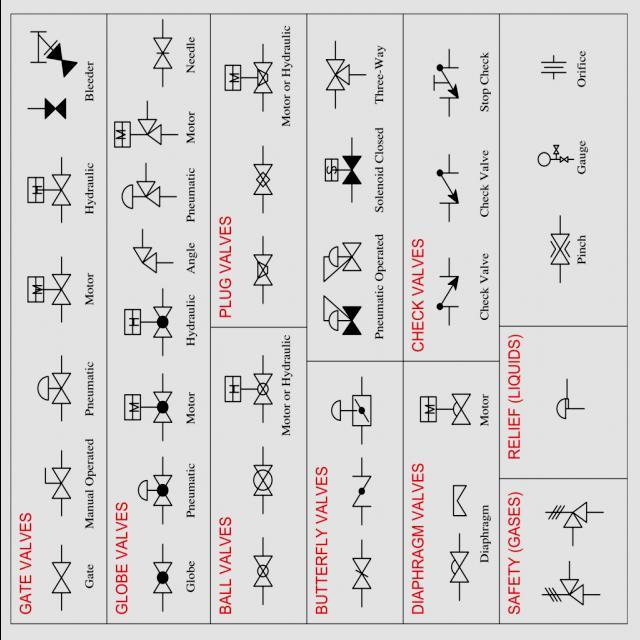3 Way Gate Valve: (311, 52, 358, 104)
Angle Valve: (126, 236, 166, 282)
BackPressure Regulator: (314, 220, 370, 288)
Ball Valve: (248, 448, 282, 503), (246, 546, 282, 597)
Bleeder Valve: (22, 30, 82, 86), (20, 92, 74, 132)
Butterfly Valve: (341, 466, 376, 518), (344, 544, 378, 594)
Check Valve: (428, 162, 464, 212), (428, 271, 459, 323)
Cock Valve: (36, 464, 74, 506)
Diaphragm Valve: (438, 544, 473, 598), (444, 484, 469, 523)
Gate Valve: (46, 556, 74, 600)
Gauge: (522, 143, 574, 175)
Globe Valve: (145, 558, 175, 598)
Hydraulic Operated Ball Valve: (217, 368, 271, 420)
Hydraulic Operated Gate Valve: (13, 161, 75, 227)
Hydraulic Operated Globe Valve: (117, 292, 177, 358)
Motor Operated Angle Valve: (109, 106, 175, 164), (114, 388, 178, 430)
Motor Operated Diaphragm Valve: (410, 392, 474, 428)
Motor Operated Gate Valve: (13, 253, 78, 329)
Motor Operated Plug Valve: (214, 54, 276, 106)
Needle Valve: (140, 26, 182, 85)
Orifice: (527, 46, 568, 94)
PRV: (540, 367, 594, 431)
PSV: (542, 498, 601, 542), (534, 574, 598, 612)
Pinch Valve: (542, 192, 576, 302)
Plug Valve: (242, 242, 278, 304), (244, 158, 277, 220)
Pneumatic-Diaphragm Angle Valve: (115, 175, 177, 218)
Pneumatic-Diaphragm Butterfly Valve: (323, 387, 377, 438)
Pneumatic-Diaphragm Gate Valve: (27, 356, 77, 429)
Pneumatic-Diaphragm Globe Valve: (131, 468, 175, 512)
Pressure Regulator: (318, 288, 364, 348)
Solenoid Operated Gate Valve: (318, 146, 362, 198)
Stop Valve: (418, 46, 470, 122)
